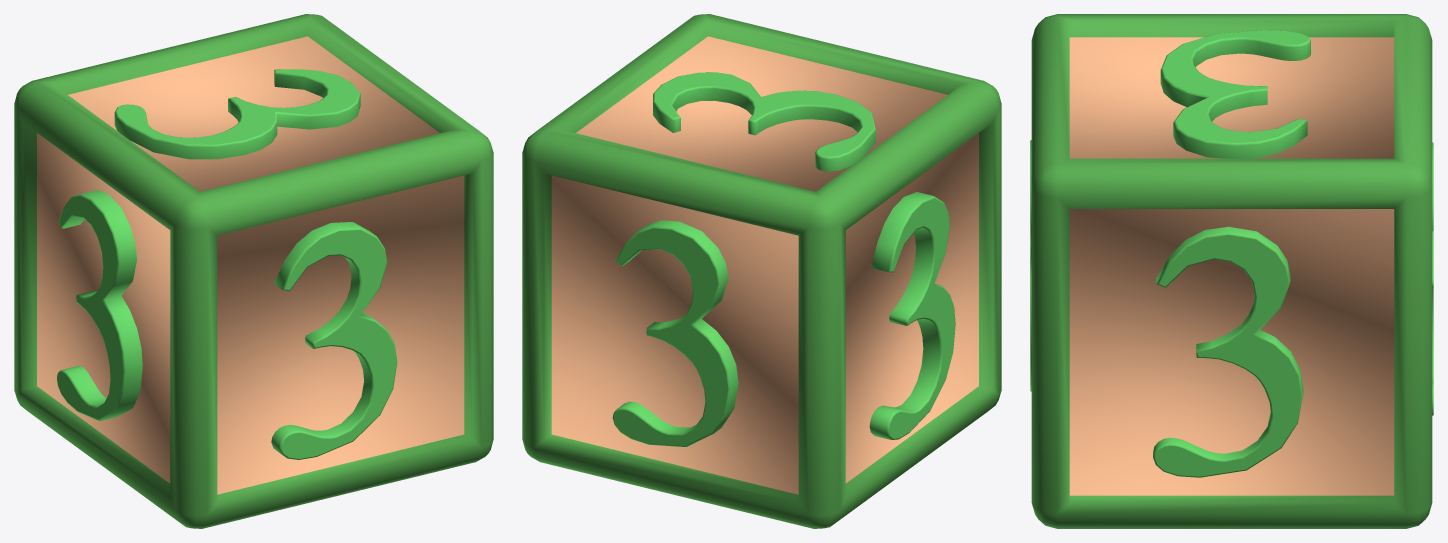
The picture shows the model from 3 angles, left to right: view 1: azimuth 30°, elevation 25°; view 2: azimuth 150°, elevation 25°; view 3: azimuth 270°, elevation 25°; orthographic projection. The views are drawn at different scales.
Parts seen in each view (by area): view 1: Msh_Cube3; view 2: Msh_Cube3; view 3: Msh_Cube3.
Boxes of the visible parts, x1,y1,x2,y2 form: Msh_Cube3: (14,14,493,528); Msh_Cube3: (522,14,1001,528); Msh_Cube3: (1030,14,1433,528).
Bounding box in the file's own units: 101 × 100 × 101.
